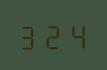four: (65, 19, 87, 49)
three: (18, 20, 40, 50)
two: (42, 20, 64, 49)
